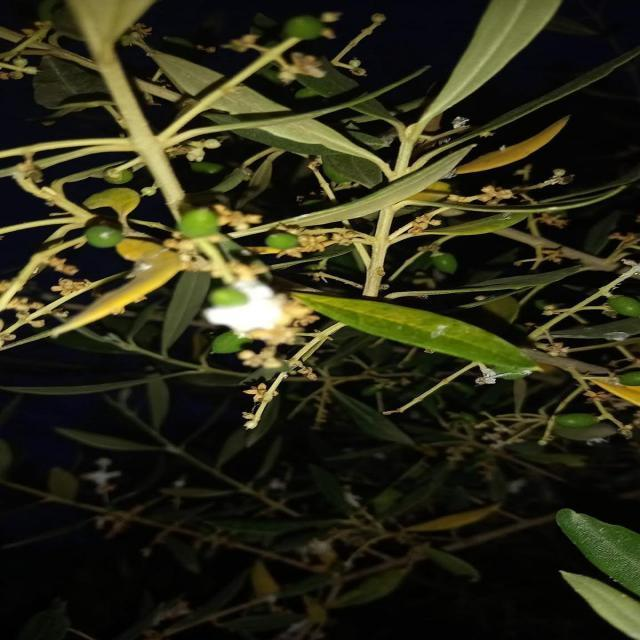Psyllid: (168, 240, 316, 348)
